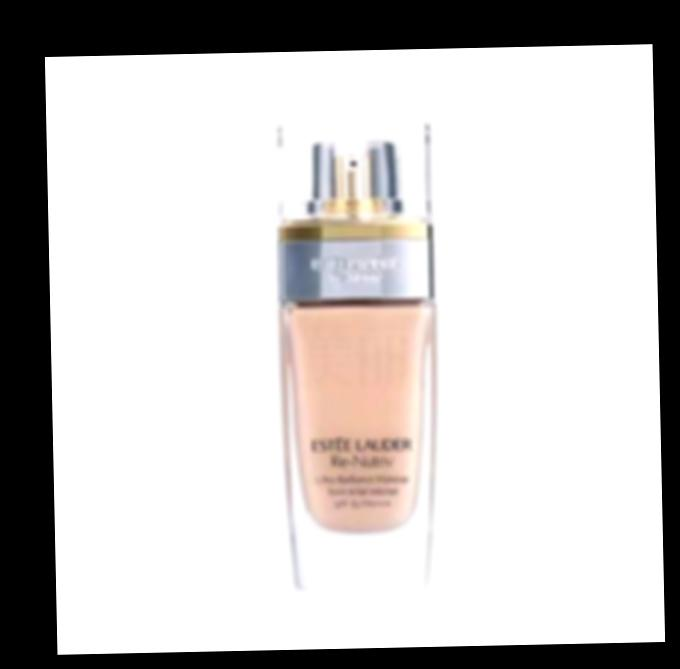cosmetic: (276, 123, 436, 592)
